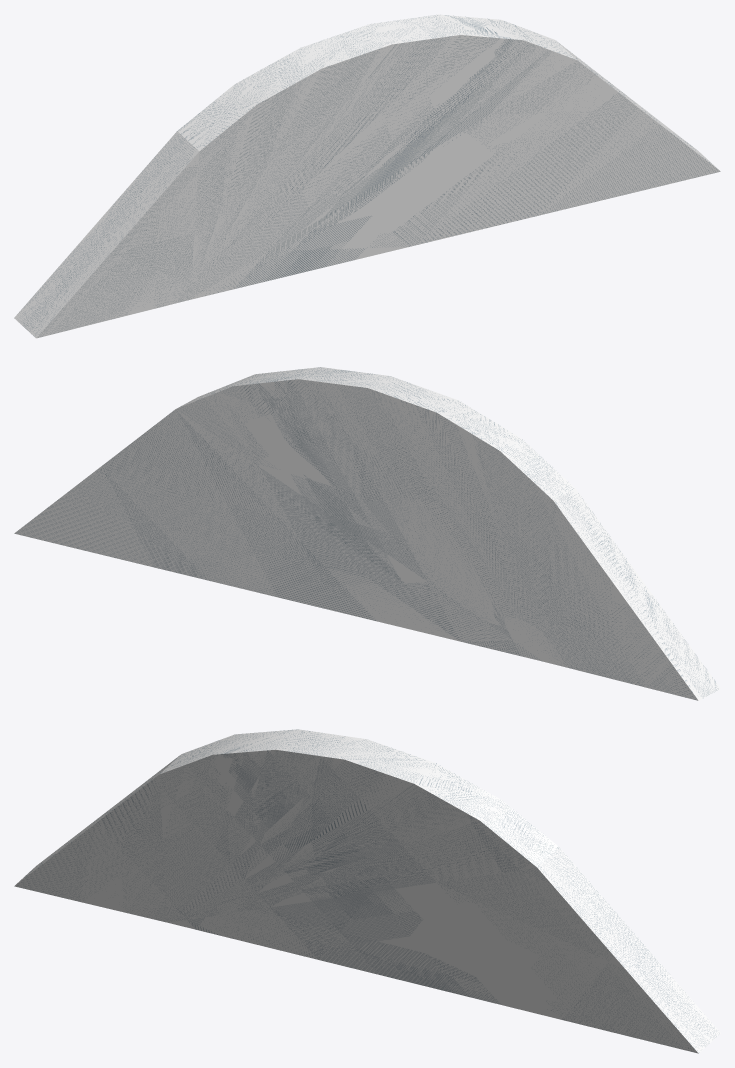
File: senti-mesh-fear-1.dae
The picture shows the model from 3 angles, top to bottom: view 1: azimuth 30°, elevation 25°; view 2: azimuth 150°, elevation 25°; view 3: azimuth 330°, elevation 25°; orthographic projection.
Parts seen in each view (by area): view 1: group_0; view 2: group_0; view 3: group_0.
Part boxes in pixels (x1,y1,x2,y2): group_0: [14, 14, 720, 338]; group_0: [14, 367, 720, 700]; group_0: [14, 729, 720, 1053].
Size of the model in its own units: 5.29 by 0.4673 by 1.65.
